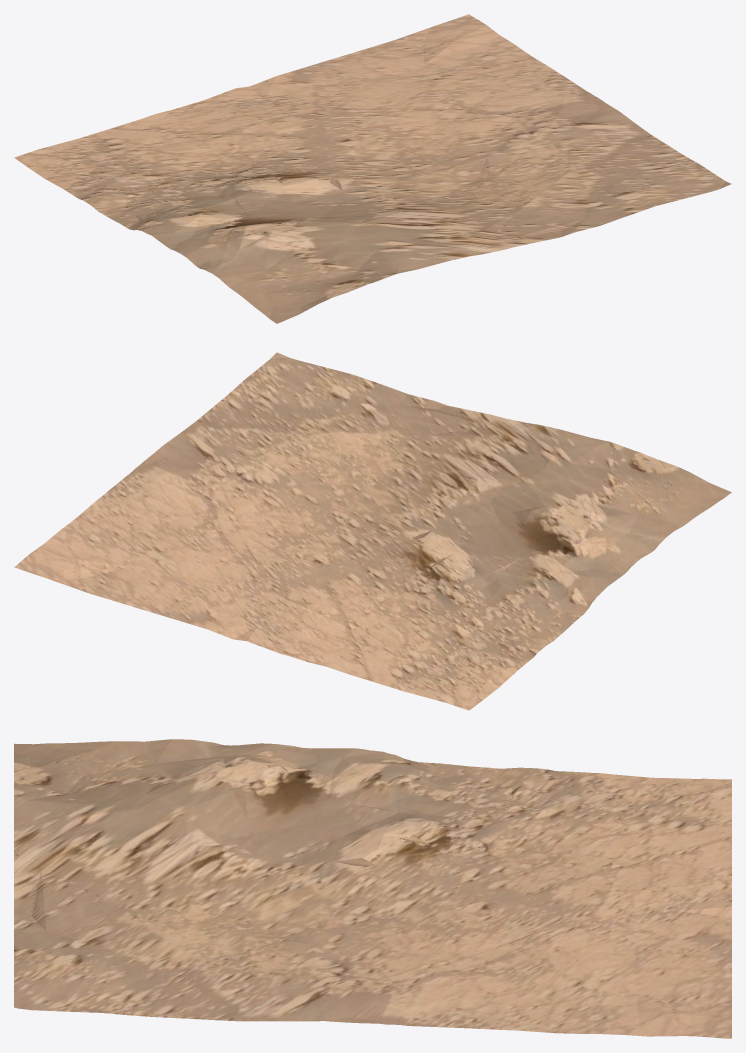
The picture shows the model from 3 angles, top to bottom: view 1: azimuth 30°, elevation 25°; view 2: azimuth 150°, elevation 25°; view 3: azimuth 270°, elevation 25°; orthographic projection. The views are drawn at different scales.
Size of the model in its own units: 1.04 by 0.1206 by 1.04.
Materials: 2 (2 with a texture image).
